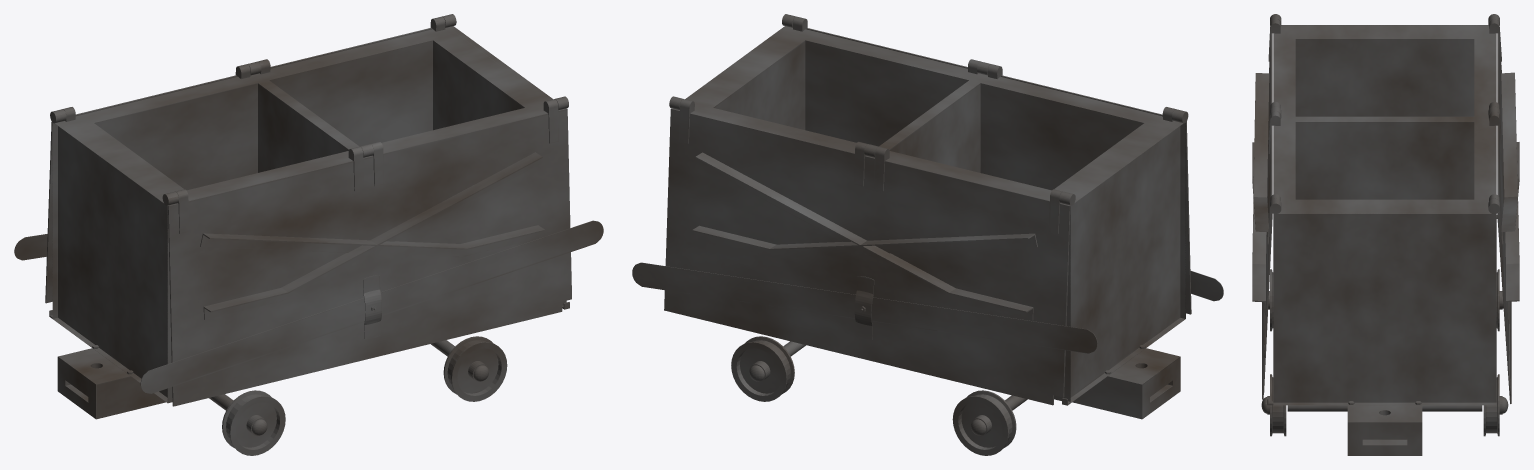
Rendered from Vagon.fbx.
3 views of the same model, side by side, from view 1: azimuth 30°, elevation 25°; view 2: azimuth 150°, elevation 25°; view 3: azimuth 270°, elevation 25° (orthographic). The views are drawn at different scales.
Parts seen in each view (by area): view 1: Base; view 2: Base; view 3: Base.
Boxes of the visible parts, <box> form: Base: <box>14,14,603,455</box>; Base: <box>632,14,1223,455</box>; Base: <box>1252,14,1519,455</box>.
Size of the model in its own units: 413 by 238 by 212.
1 material, 1 textured.
